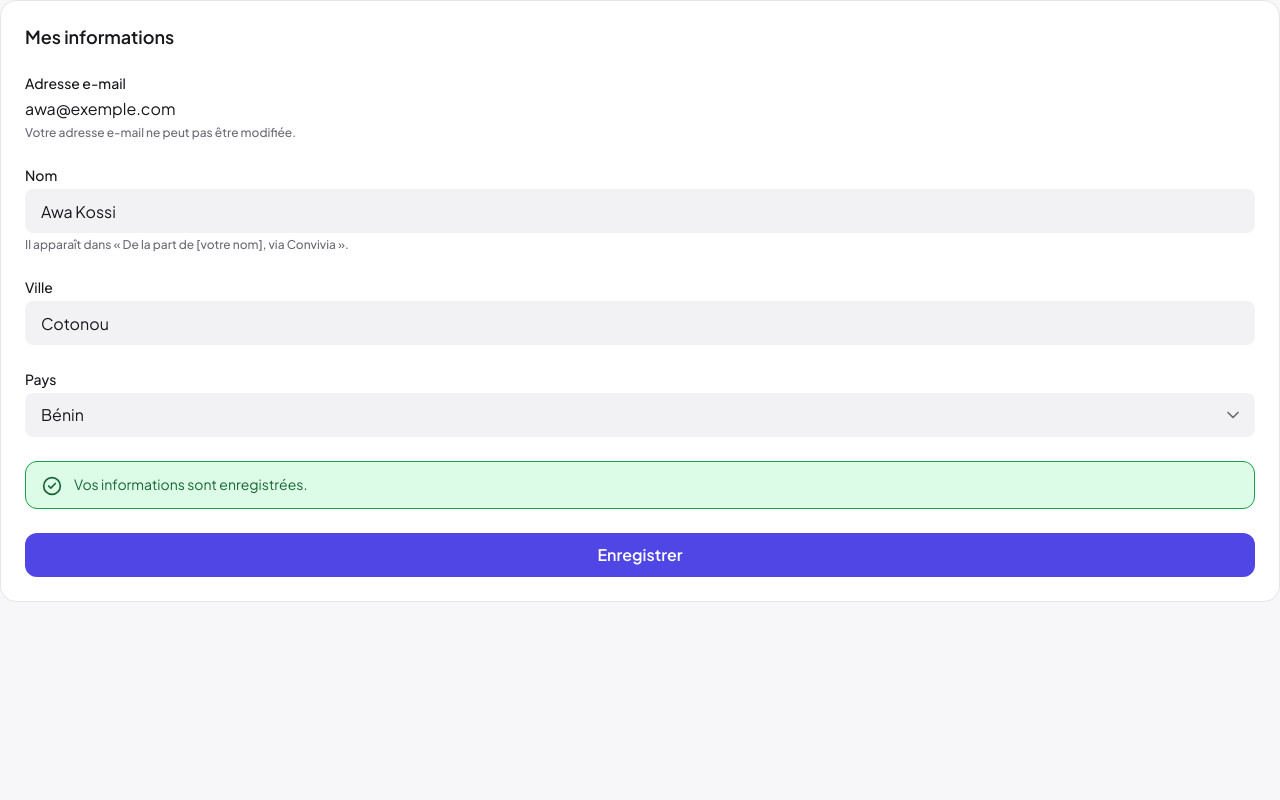
AccountProfileSection › confirme l’enregistrement, puis efface la confirmation à la prochaine modification
Expected: the message reads "Vos informations sont enregistrées.", [74, 475, 308, 493]
Replace the text in the field labelled "Nom" with "Awa K.": (640,211) [25, 189, 1255, 233]
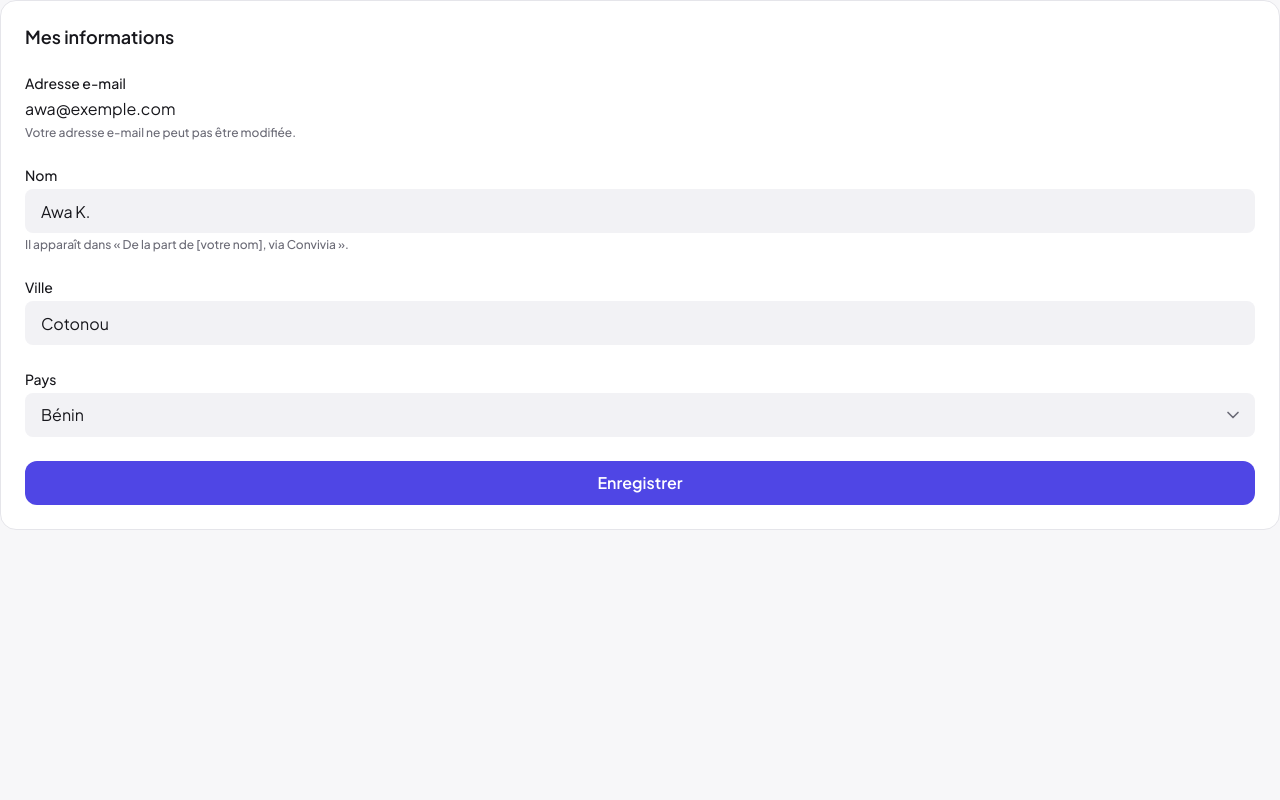
Now the text "Vos informations sont enregistrées." is gone
